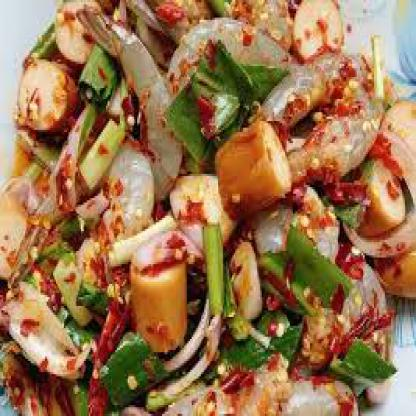Yum: (0, 6, 415, 414)
